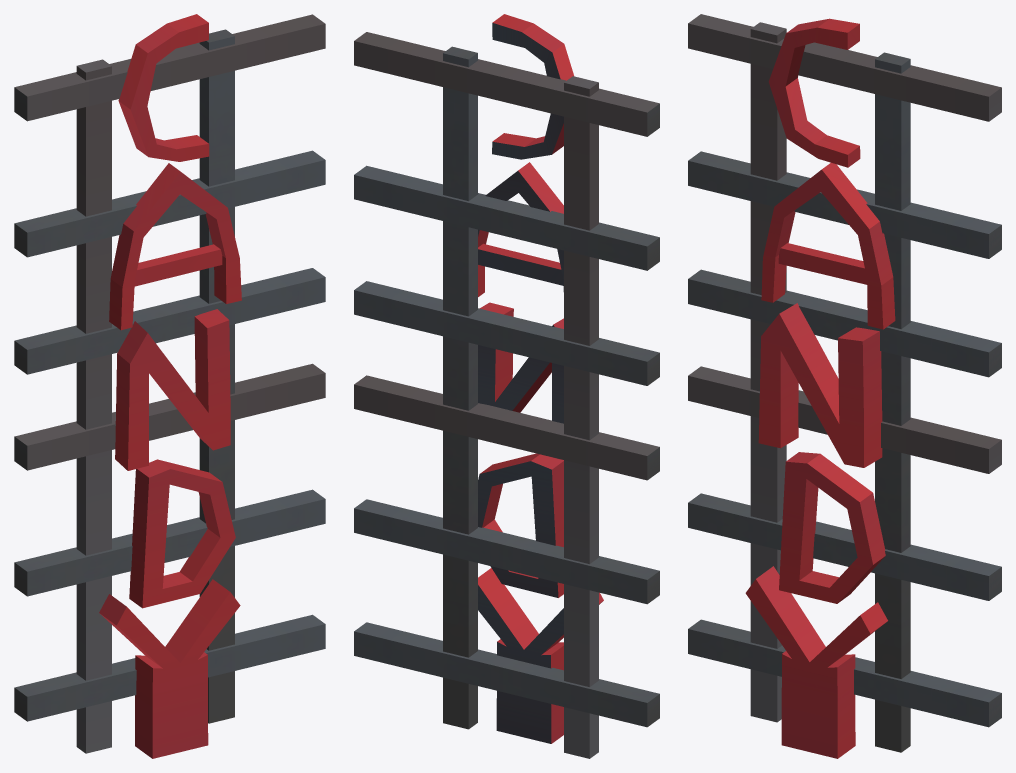
File: SM_Hoarding_08_B.FBX
3 renders of one model, left to right at view 1: azimuth 30°, elevation 25°; view 2: azimuth 150°, elevation 25°; view 3: azimuth 330°, elevation 25°, orthographic. The views are drawn at different scales.
Visible parts, largest first — view 1: SM_Hoarding_08_B; view 2: SM_Hoarding_08_B; view 3: SM_Hoarding_08_B.
Part boxes in pixels (x1,y1,x2,y2): SM_Hoarding_08_B: (14, 14, 325, 758); SM_Hoarding_08_B: (354, 14, 659, 758); SM_Hoarding_08_B: (688, 14, 1001, 758).
Size of what is drawn, in the model's own units: 308 by 51.93 by 707.
